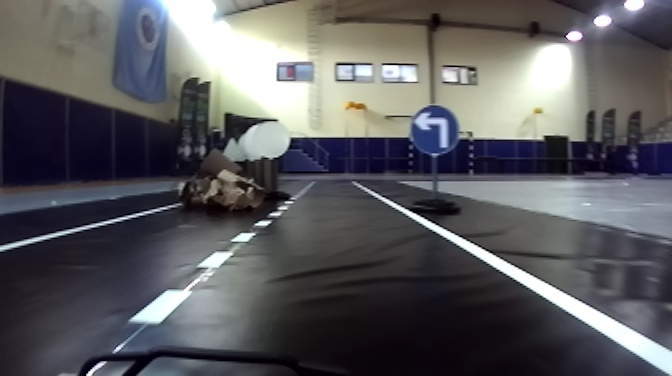sola_donus: (409, 102, 459, 158)
